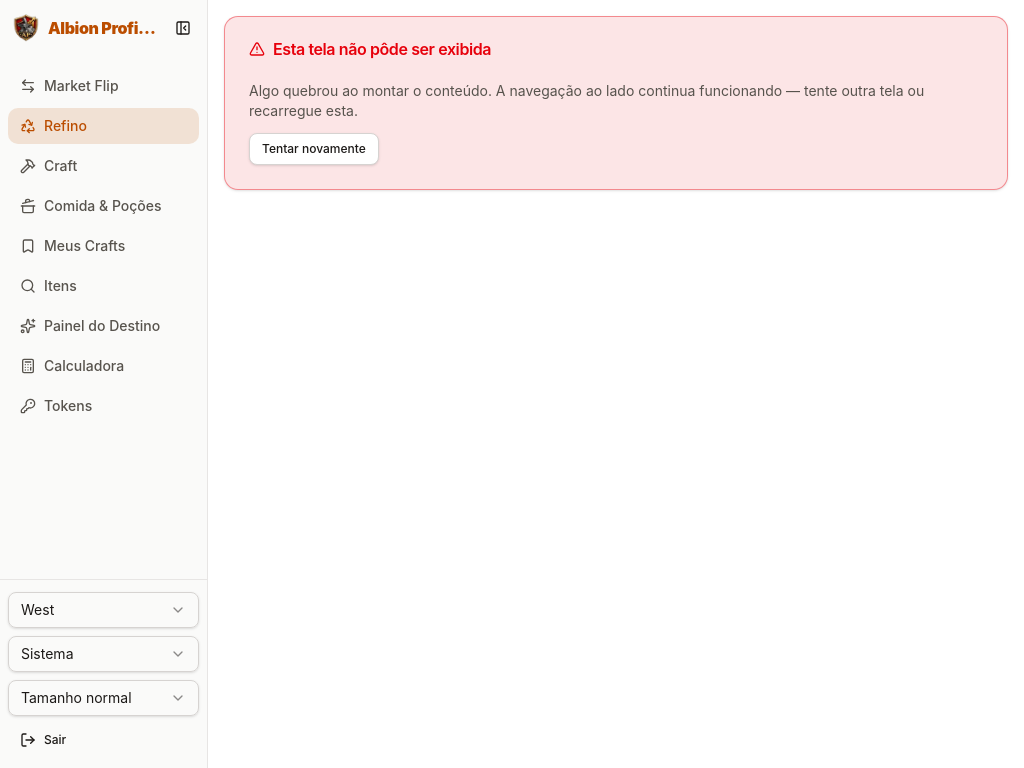
ErrorBoundary › mudar de FILTRO limpa o erro, não só mudar de rota
Check: the text "Esta tela não pôde ser exibida" is shown, box left=249, top=39, right=491, bottom=59
Mesma rota, outra query — é o que acontece ao mexer num filtro.
Click the link "Refino".
click(104, 126)  # box left=8, top=108, right=199, bottom=144
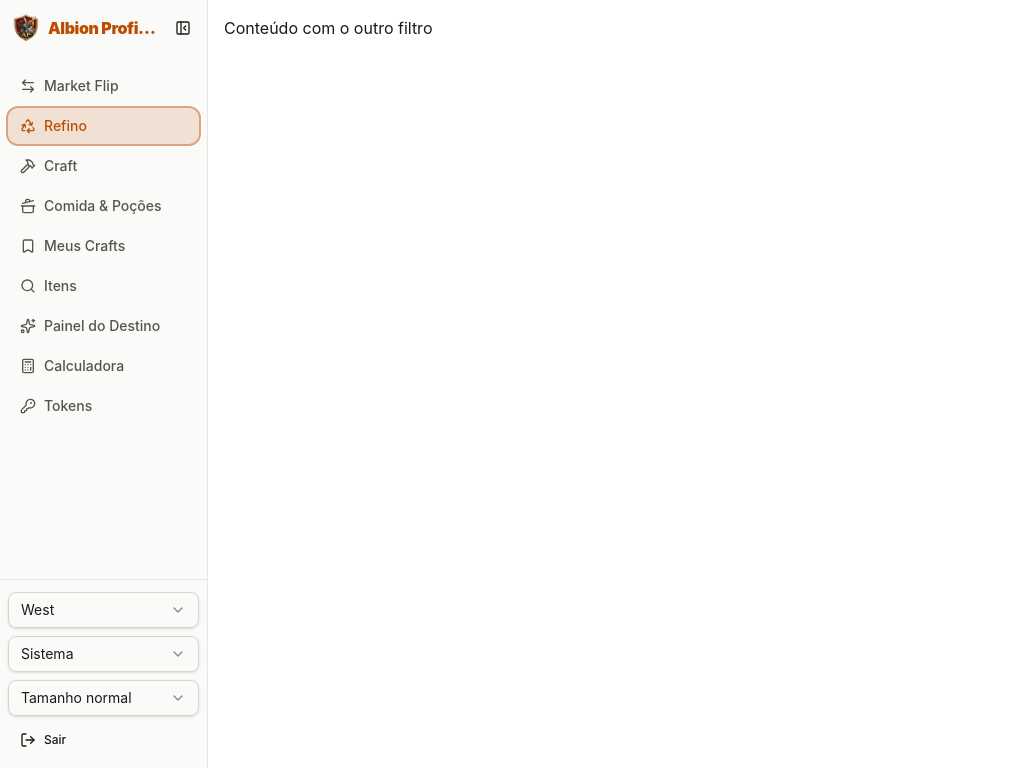
Check: the text "Conteúdo com o outro filtro" is shown, box left=224, top=18, right=432, bottom=38
